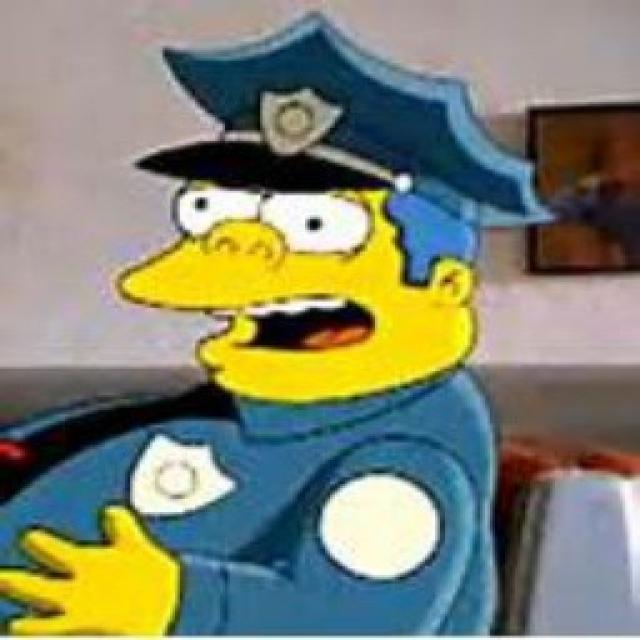Chief Wiggam: (112, 10, 558, 407)
